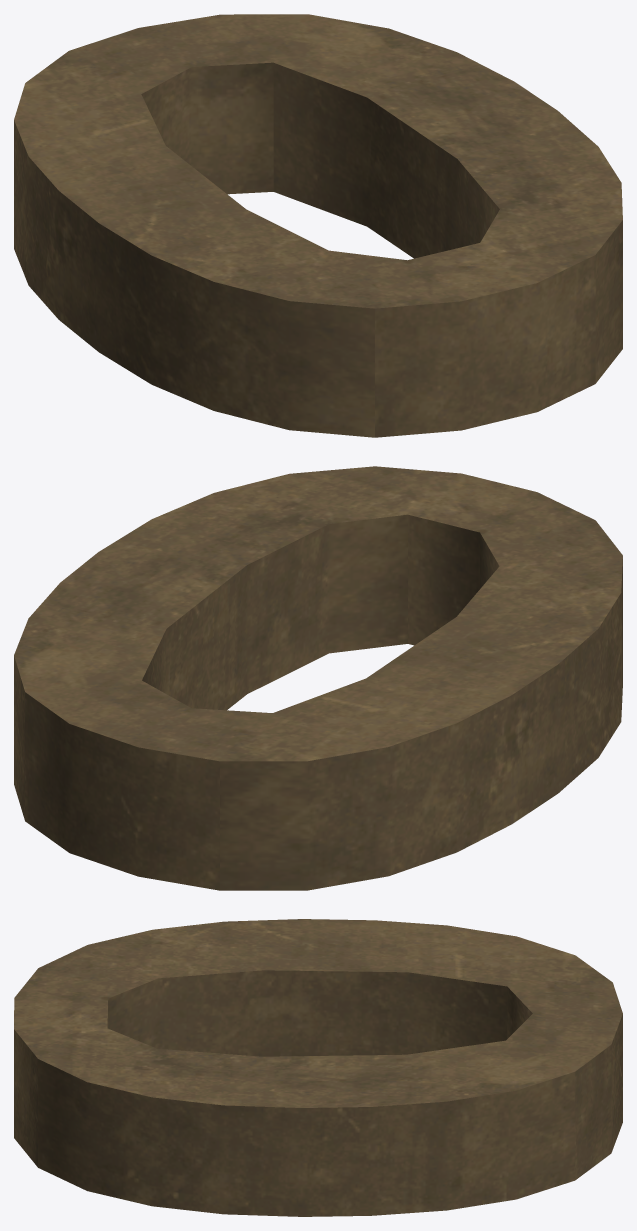
File: p6_3d_txt_levenim_frnt_gold_0_LOD0.obj
The picture shows the model from 3 angles, top to bottom: view 1: azimuth 30°, elevation 25°; view 2: azimuth 150°, elevation 25°; view 3: azimuth 270°, elevation 25°; orthographic projection. The views are drawn at different scales.
Parts seen in each view (by area): view 1: dub_gold_shiny_01; view 2: dub_gold_shiny_01; view 3: dub_gold_shiny_01.
Part boxes in pixels (x1,y1,x2,y2): dub_gold_shiny_01: [14, 14, 622, 437]; dub_gold_shiny_01: [14, 466, 622, 890]; dub_gold_shiny_01: [14, 919, 622, 1216].
Size of the model in its own units: 71.99 by 19.34 by 98.
